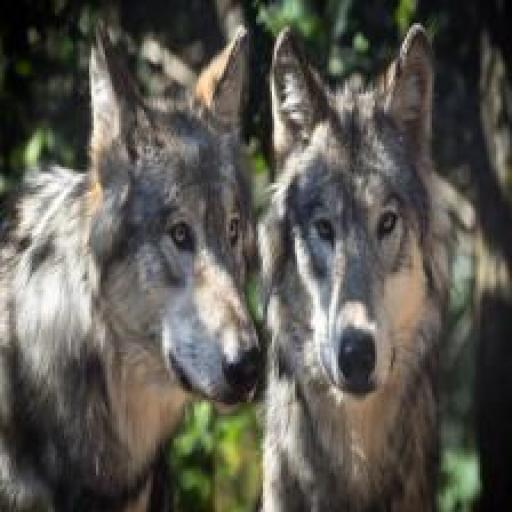wolf: (0, 9, 269, 511), (260, 4, 493, 512)
